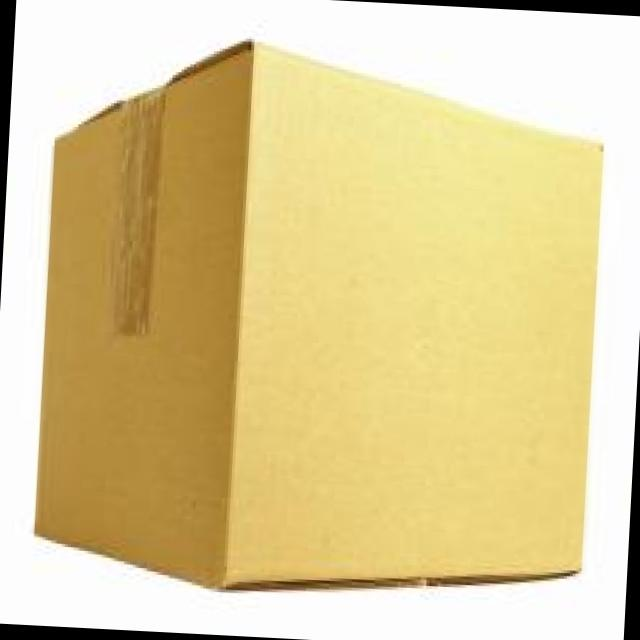box: (33, 38, 606, 591)
